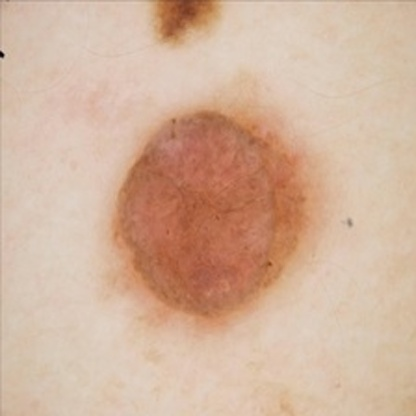benign: (109, 111, 304, 320)
